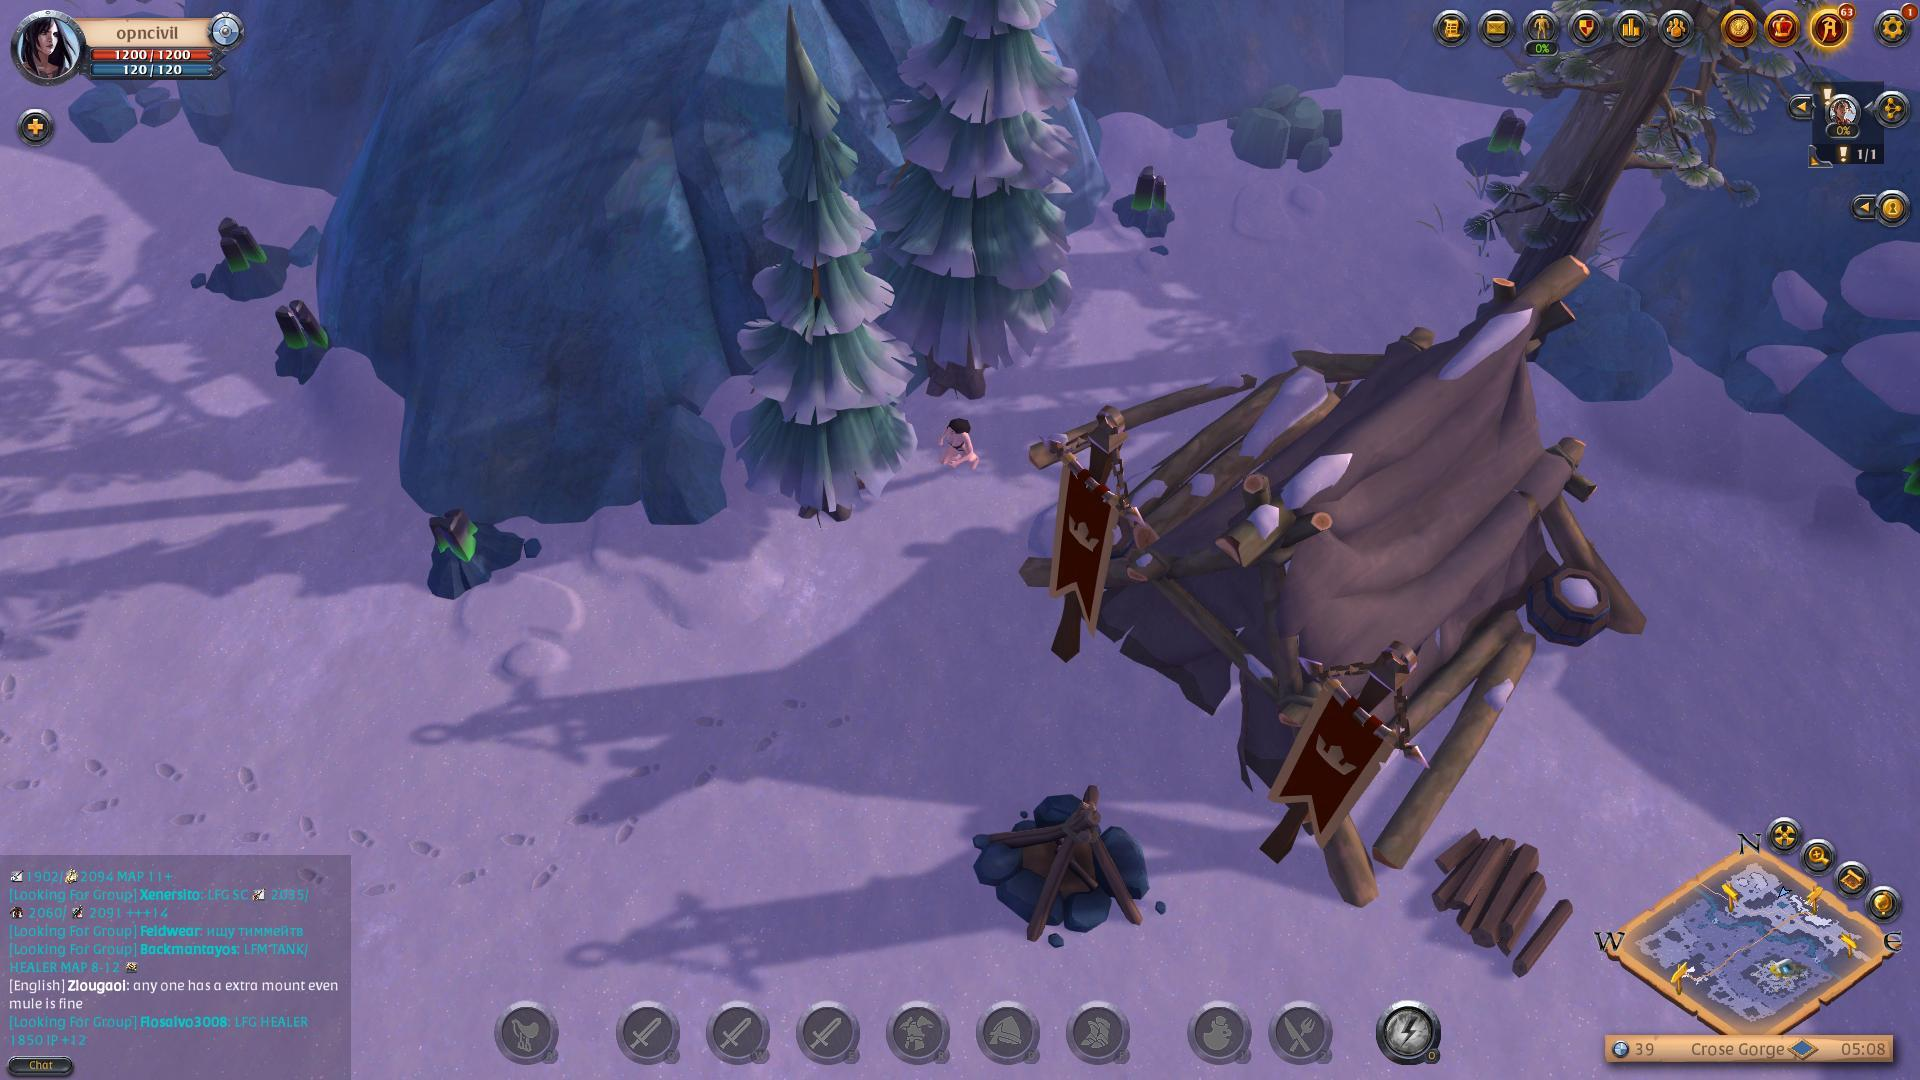sandstone: (1218, 75, 1356, 183)
tin_ore: (409, 497, 549, 617), (262, 290, 353, 396), (191, 218, 298, 306), (1455, 105, 1539, 191), (1844, 447, 1920, 533), (1108, 158, 1183, 243)
